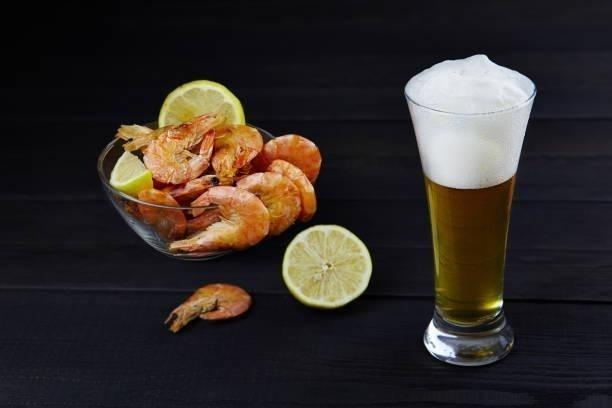glass-normal: (403, 54, 538, 367)
